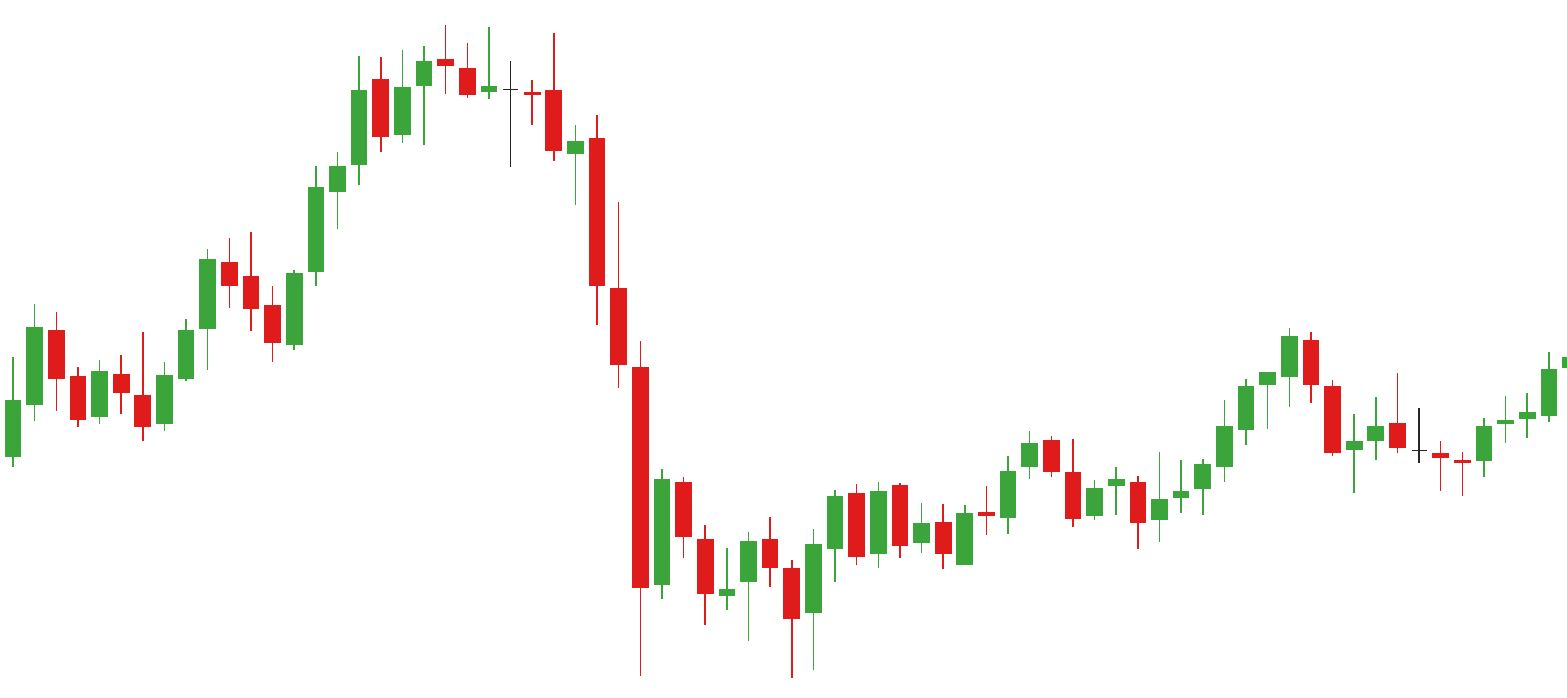sell: (23, 241, 261, 374)
